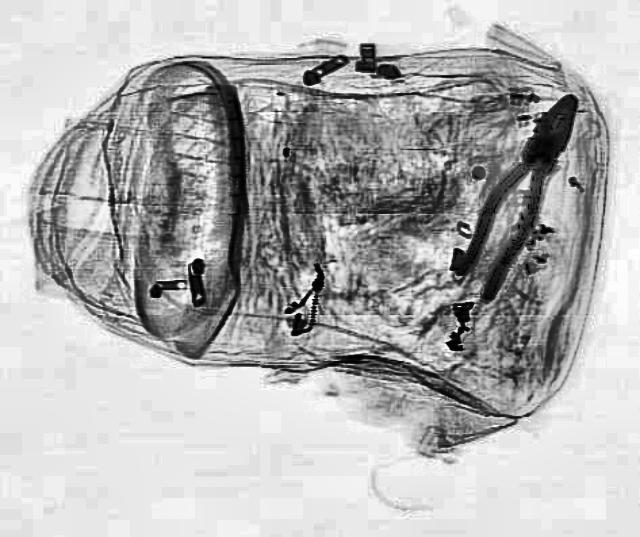Pliers: (440, 86, 596, 298)
